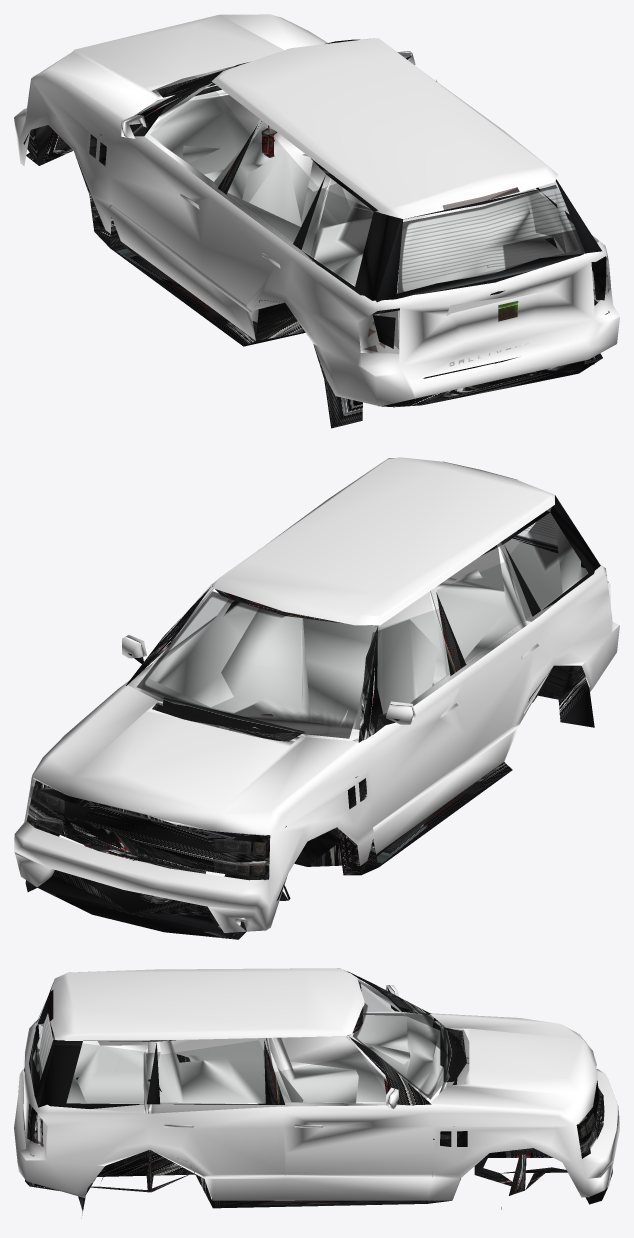
Rendered from baller-lod.glb.
3 views of the same model, one above another, from view 1: azimuth 30°, elevation 25°; view 2: azimuth 150°, elevation 25°; view 3: azimuth 270°, elevation 25° (orthographic). The views are drawn at different scales.
Size of the model in its own units: 2.18 by 1.61 by 4.98.
10 materials, 9 textured.
